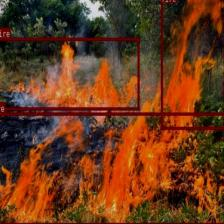fire: (0, 112, 224, 224), (0, 37, 139, 110), (160, 0, 224, 129)
